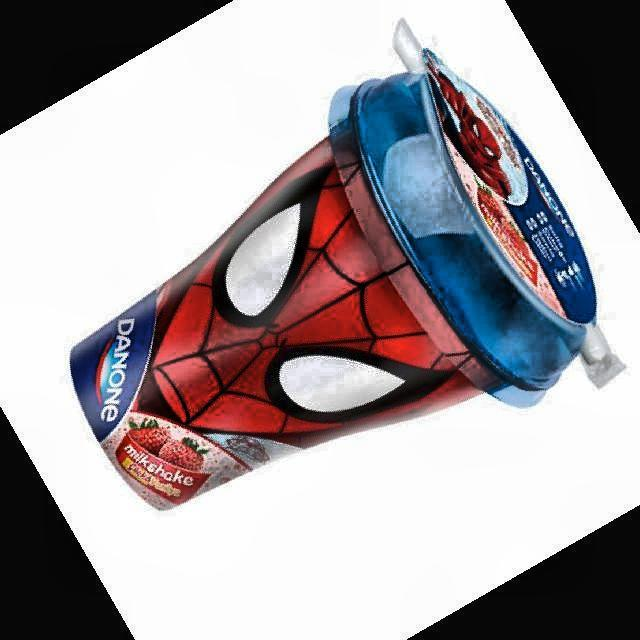plastic: (70, 52, 596, 509)
